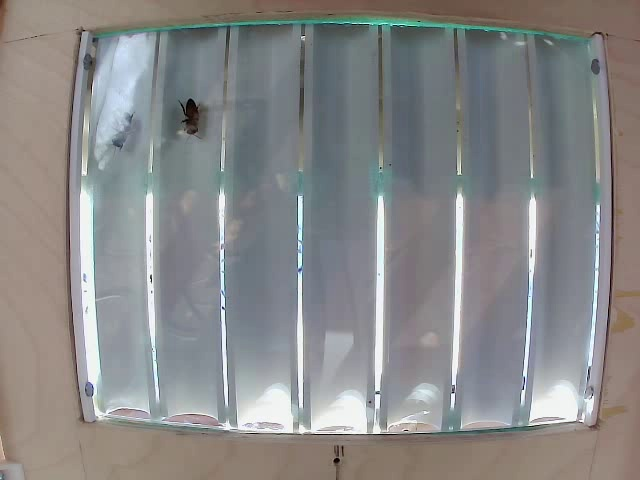bee: (168, 92, 219, 152)
